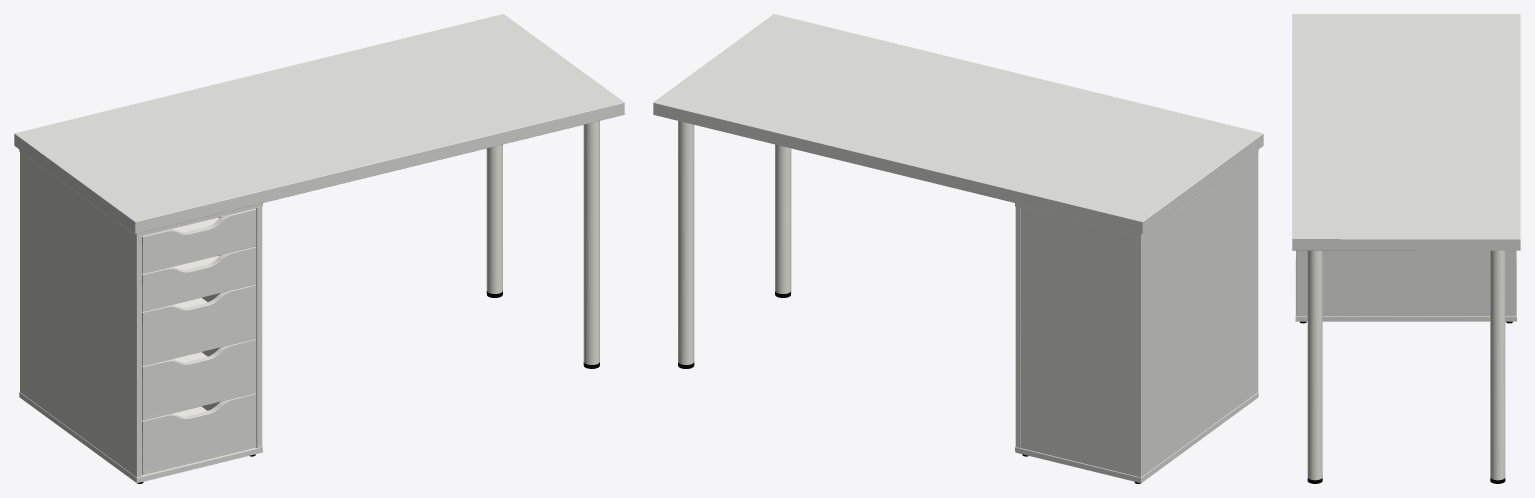
3 renders of one model, left to right at view 1: azimuth 30°, elevation 25°; view 2: azimuth 150°, elevation 25°; view 3: azimuth 270°, elevation 25°, orthographic. The views are drawn at different scales.
Parts seen in each view (by area): view 1: GLTF; view 2: GLTF; view 3: GLTF.
Part boxes in pixels (x1,y1,x2,y2): GLTF: (14, 14, 624, 483); GLTF: (653, 14, 1263, 483); GLTF: (1292, 14, 1520, 483).
Bounding box in the file's own units: 1.4 × 0.73 × 0.6.
Materials: 1 (1 with a texture image).
